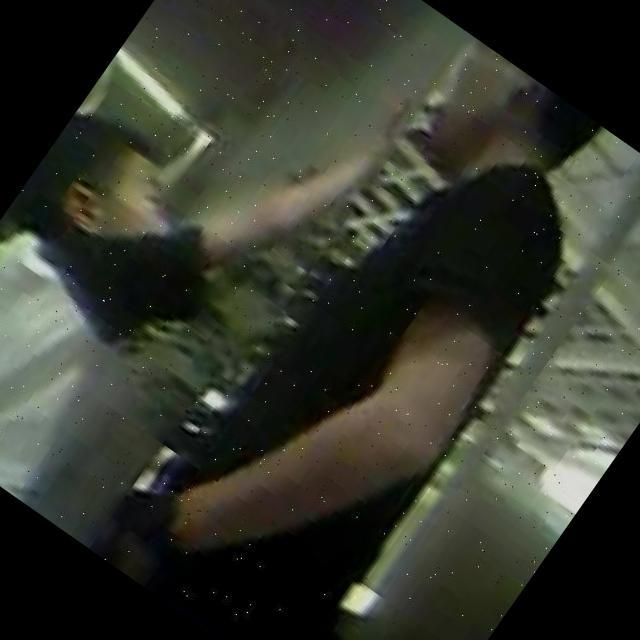person: (117, 44, 640, 640), (0, 0, 422, 561)
